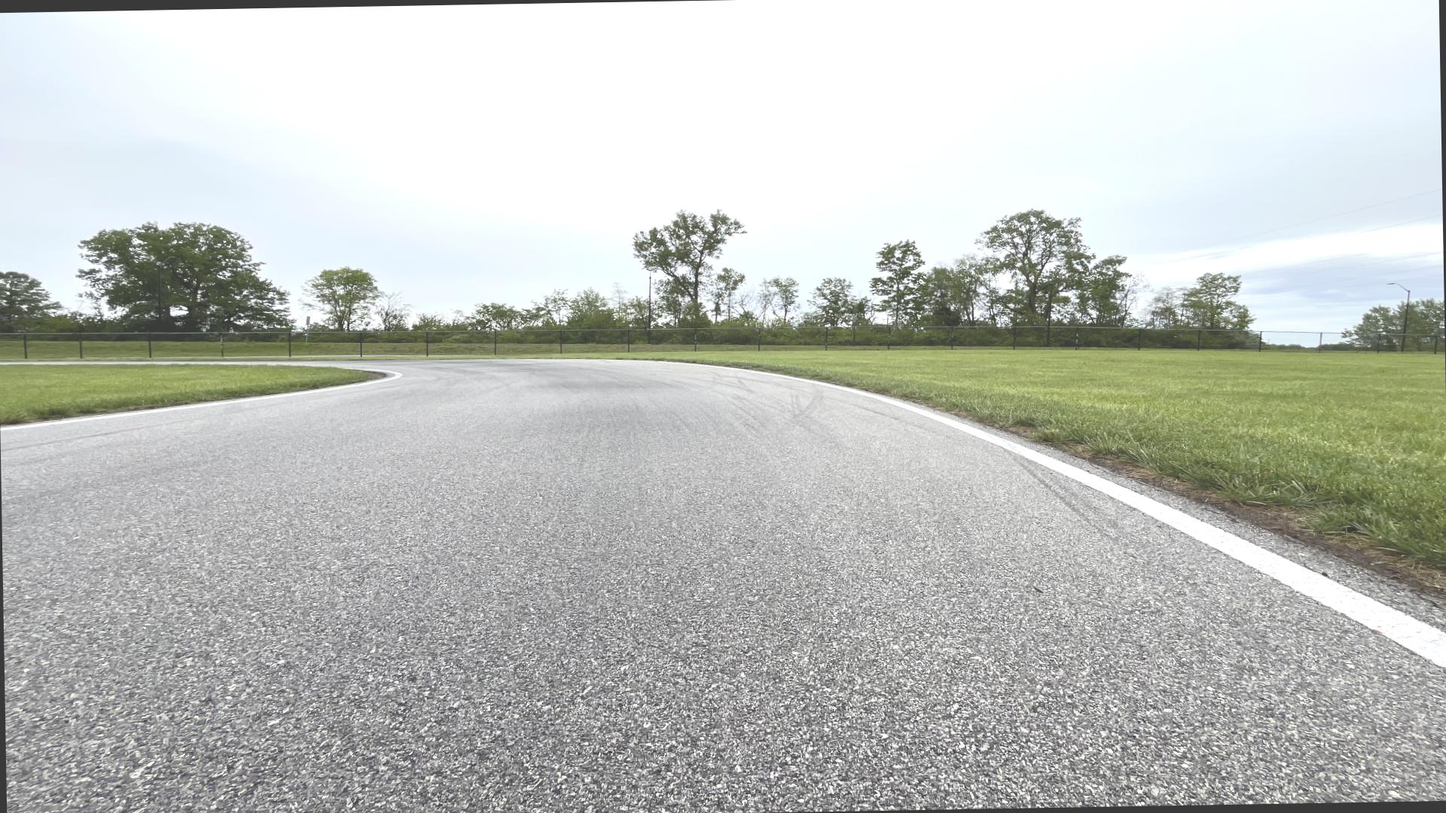white-line: (574, 359, 1445, 670), (0, 369, 403, 431)
